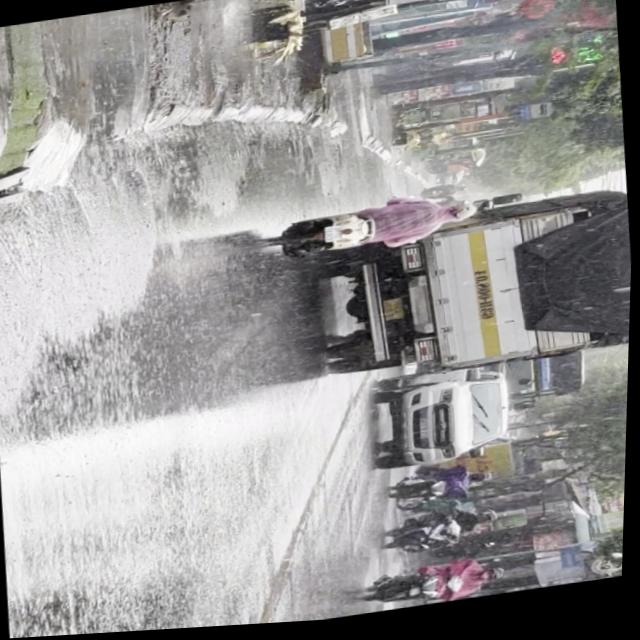helmet: (445, 206, 480, 230), (484, 573, 509, 590)
licenseplate: (266, 192, 486, 270), (363, 559, 513, 618)
nohelmet: (326, 229, 343, 247)
